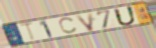1: (39, 19, 55, 39)
7: (96, 9, 113, 30)
C: (58, 16, 79, 35)
T: (19, 21, 37, 42)
U: (112, 5, 139, 27)
V: (74, 11, 95, 33)
